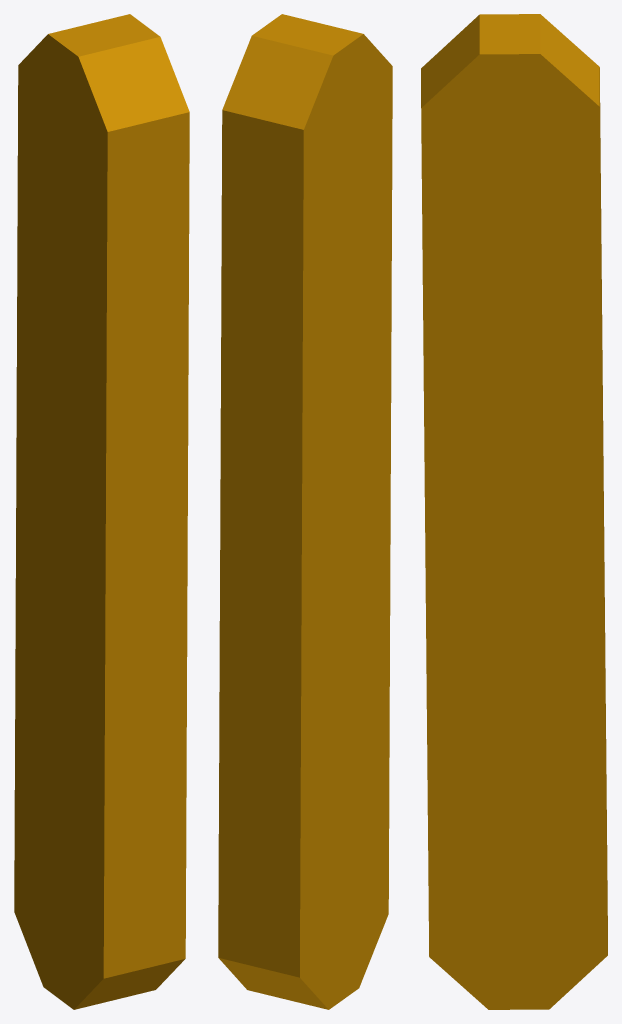
The model's file is Arm1.obj.
The picture shows the model from 3 angles, left to right: view 1: azimuth 30°, elevation 25°; view 2: azimuth 150°, elevation 25°; view 3: azimuth 270°, elevation 25°; orthographic projection.
Parts seen in each view (by area): view 1: Arm1; view 2: Arm1; view 3: Arm1.
Part boxes in pixels (x1=…): Arm1: x1=14, y1=14, x2=189, y2=1009; Arm1: x1=218, y1=14, x2=392, y2=1009; Arm1: x1=421, y1=14, x2=607, y2=1009.
Size of the model in its own units: 1.24 by 13.84 by 2.45.
